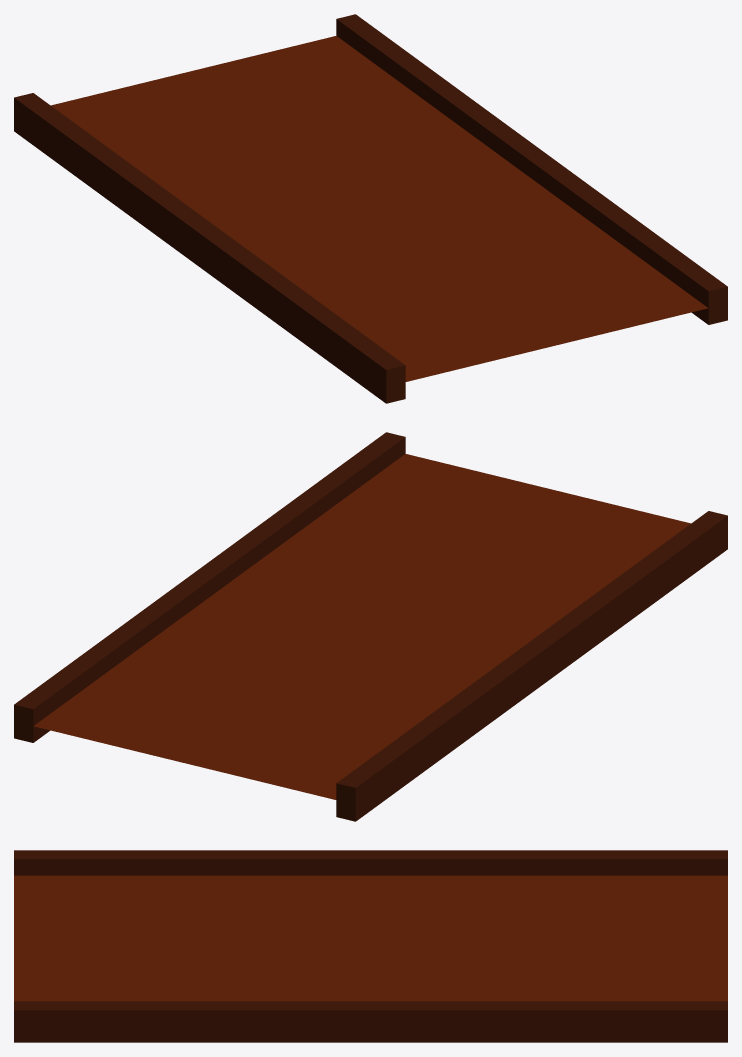
Rendered from catwalk.fbx.
3 renders of one model, top to bottom at view 1: azimuth 30°, elevation 25°; view 2: azimuth 150°, elevation 25°; view 3: azimuth 270°, elevation 25°, orthographic. The views are drawn at different scales.
Parts seen in each view (by area): view 1: Plane, Cube, Cube.001; view 2: Plane, Cube, Cube.001; view 3: Plane, Cube.001, Cube.
Boxes of the visible parts, x1=… form: Plane: x1=51, y1=36, x2=708, y2=381; Cube: x1=14, y1=93, x2=405, y2=403; Cube.001: x1=336, y1=14, x2=727, y2=324; Plane: x1=33, y1=454, x2=690, y2=799; Cube: x1=336, y1=511, x2=727, y2=821; Cube.001: x1=14, y1=432, x2=405, y2=742; Plane: x1=14, y1=875, x2=727, y2=1001; Cube.001: x1=14, y1=1001, x2=727, y2=1042; Cube: x1=14, y1=850, x2=727, y2=875.
Size of the model in its own units: 106 by 10 by 200.
